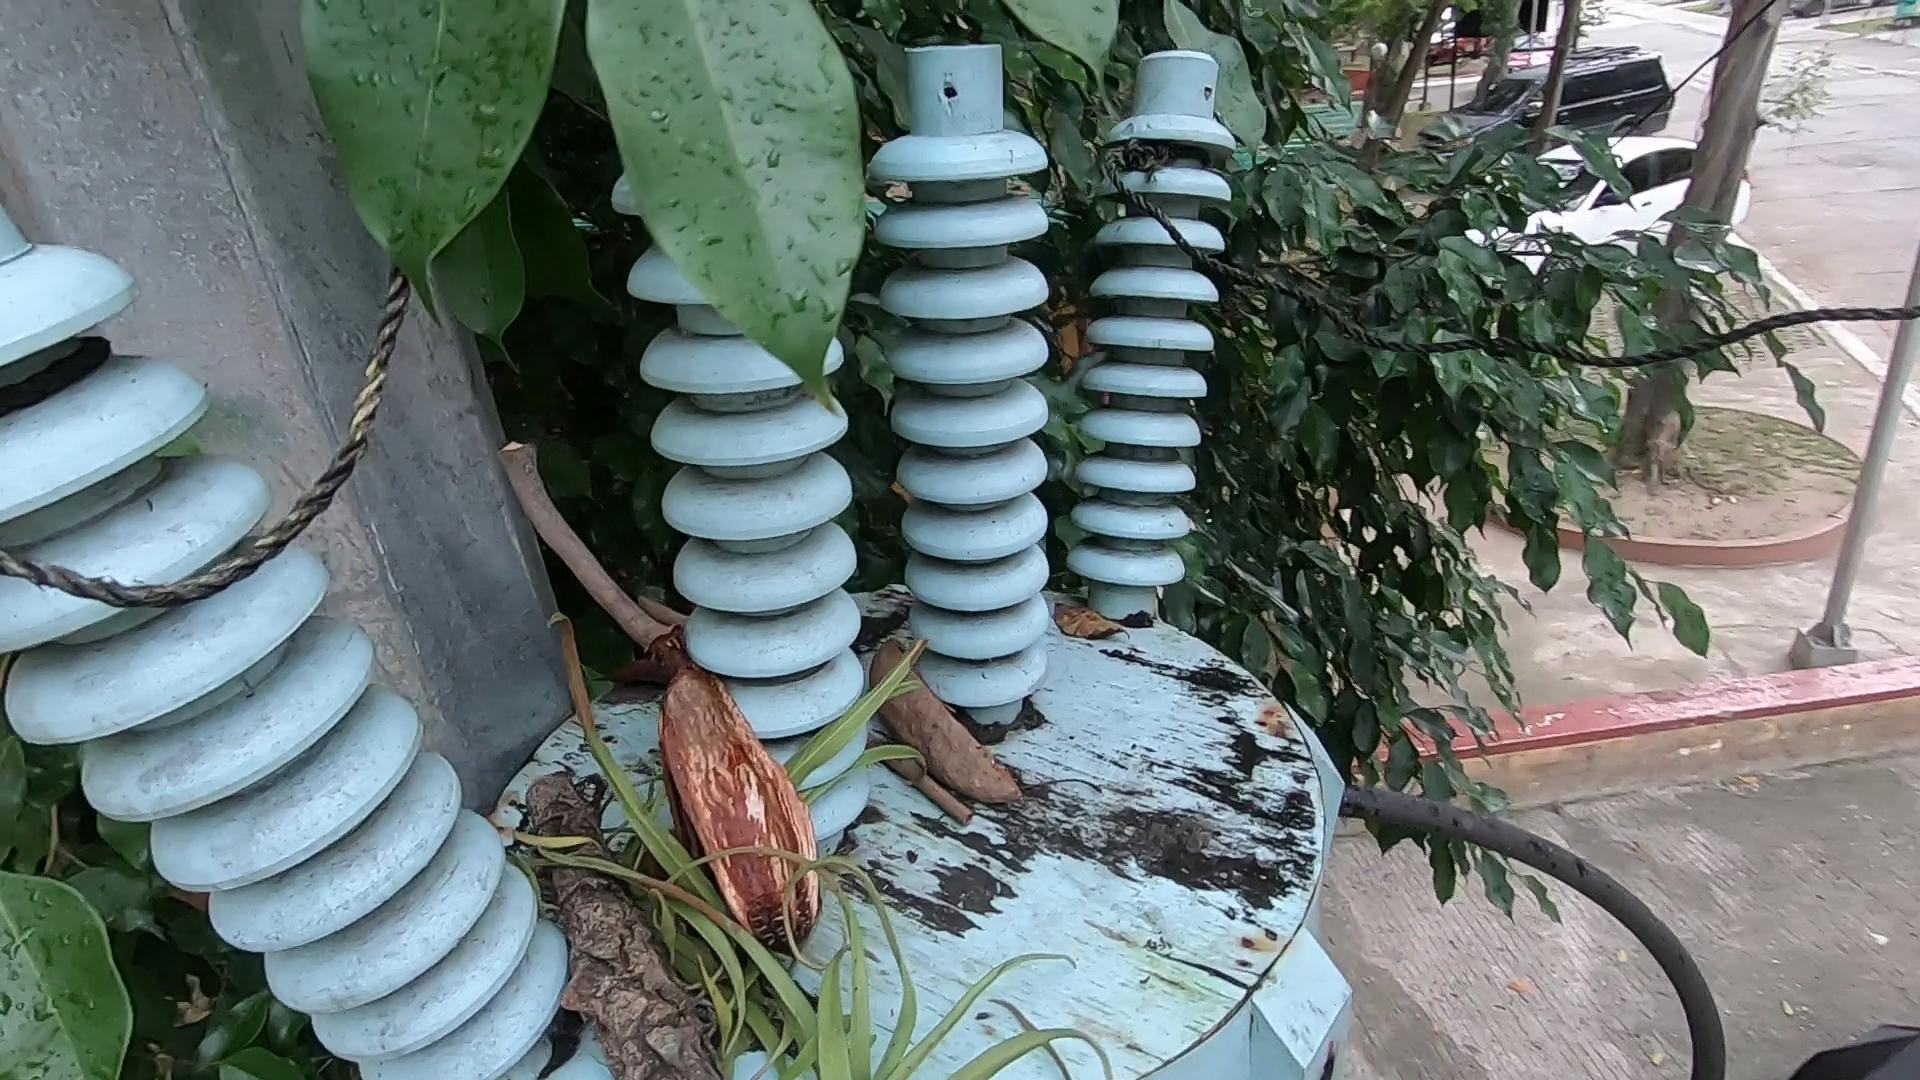branch with leaves: (495, 769, 1007, 1080)
leaf: (1036, 597, 1187, 667)
mahogany fruit: (651, 667, 866, 1044), (872, 647, 993, 824)
tree branch: (479, 415, 684, 707), (841, 699, 1004, 855)
